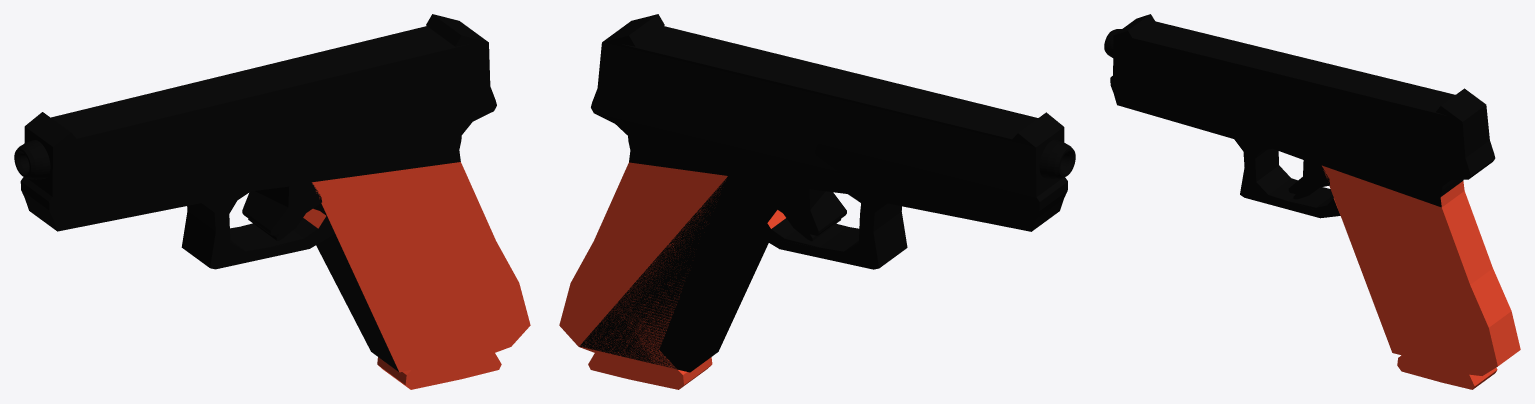
The model's file is gun.fbx.
The picture shows the model from 3 angles, left to right: view 1: azimuth 30°, elevation 25°; view 2: azimuth 150°, elevation 25°; view 3: azimuth 330°, elevation 25°; orthographic projection. The views are drawn at different scales.
Visible parts, largest first — view 1: Weapon; view 2: Weapon; view 3: Weapon.
Part boxes in pixels (x1=…): Weapon: x1=14, y1=14, x2=530, y2=389; Weapon: x1=559, y1=14, x2=1075, y2=389; Weapon: x1=1104, y1=14, x2=1520, y2=389.
Bounding box in the file's own units: 494 × 329 × 54.41.
